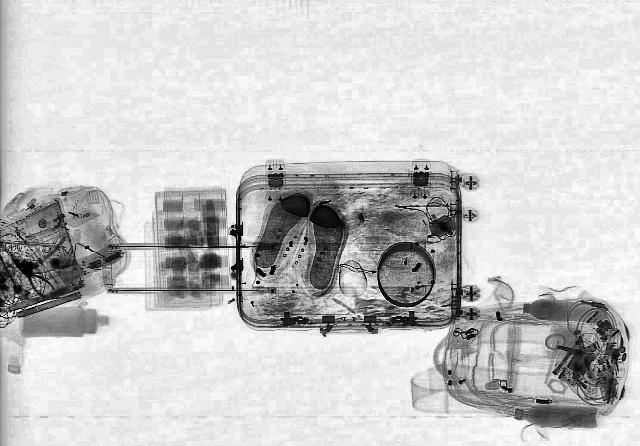Pliers: (6, 256, 58, 298)
